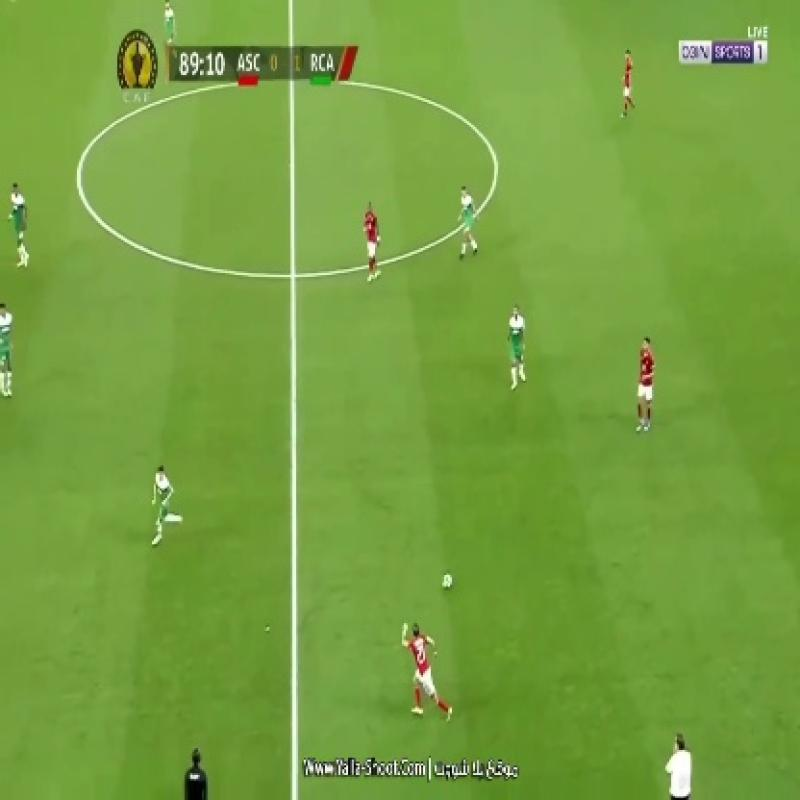15: (277, 252, 308, 298)
c: (55, 149, 107, 208), (478, 138, 516, 194)
